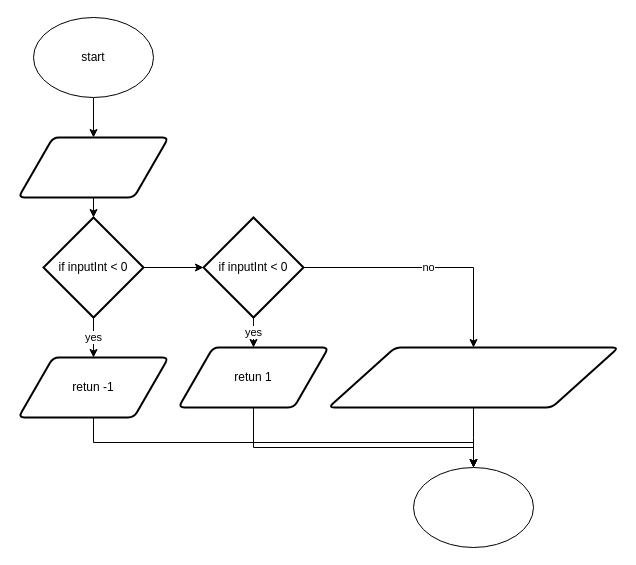
This 636x565 diagram has some shape labels left out. Here are the shapes that lost their labels. From the top down, the box of each, then its label:
(17, 136, 169, 198): get inputInt
(327, 346, 619, 408): return (inputInt1 * factorial (inputInt - 1)
(412, 466, 534, 548): stop
